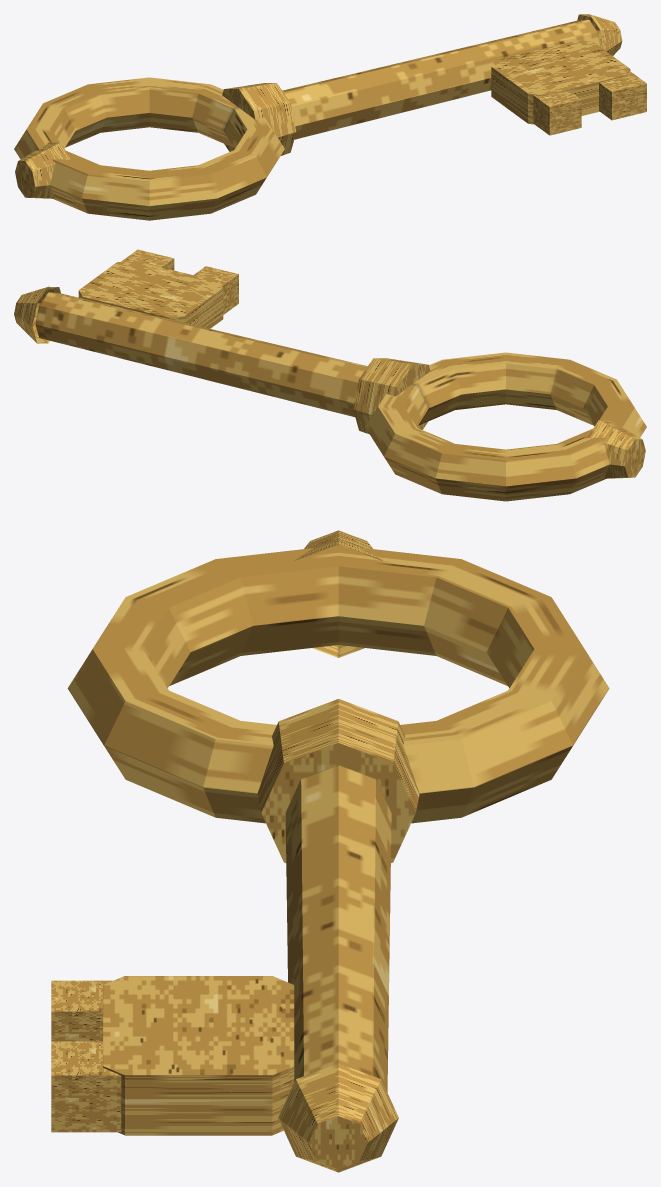
The model's file is Item_Key.fbx.
The picture shows the model from 3 angles, top to bottom: view 1: azimuth 30°, elevation 25°; view 2: azimuth 150°, elevation 25°; view 3: azimuth 270°, elevation 25°; orthographic projection. The views are drawn at different scales.
Parts seen in each view (by area): view 1: Item_Key; view 2: Item_Key; view 3: Item_Key.
Part boxes in pixels (bbox=[...]): Item_Key: bbox=[14, 14, 646, 220]; Item_Key: bbox=[14, 249, 646, 501]; Item_Key: bbox=[51, 530, 609, 1172].
Bounding box in the file's own units: 18.5 × 2.3 × 7.58.
